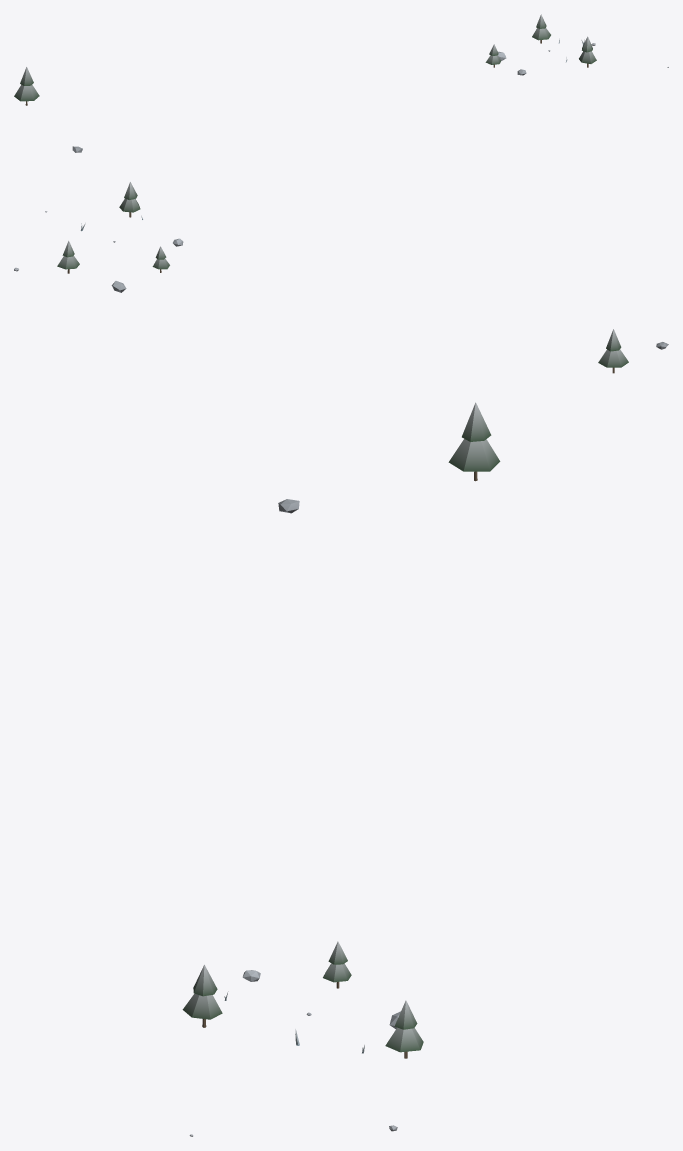
Rendered from frost_land_scatter_c22_08_lod1.glb.
The picture shows the model from 3 angles, top to bottom: view 1: azimuth 30°, elevation 25°; view 2: azimuth 150°, elevation 25°; view 3: azimuth 270°, elevation 25°; orthographic projection. The views are drawn at different scales.
Parts seen in each view (by area): view 1: frost_land_scatter_c22_08_lod1; view 2: frost_land_scatter_c22_08_lod1; view 3: frost_land_scatter_c22_08_lod1.
Part boxes in pixels (box(x1,y1,x2,y2)): frost_land_scatter_c22_08_lod1: box(14, 14, 668, 152); frost_land_scatter_c22_08_lod1: box(14, 182, 668, 373); frost_land_scatter_c22_08_lod1: box(182, 402, 500, 1136).
Size of the model in its own units: 215 by 34.51 by 50.86.
